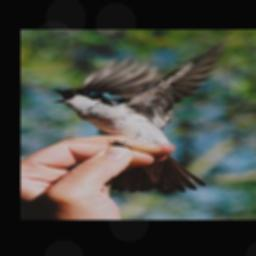Swallow: (49, 31, 238, 193)
